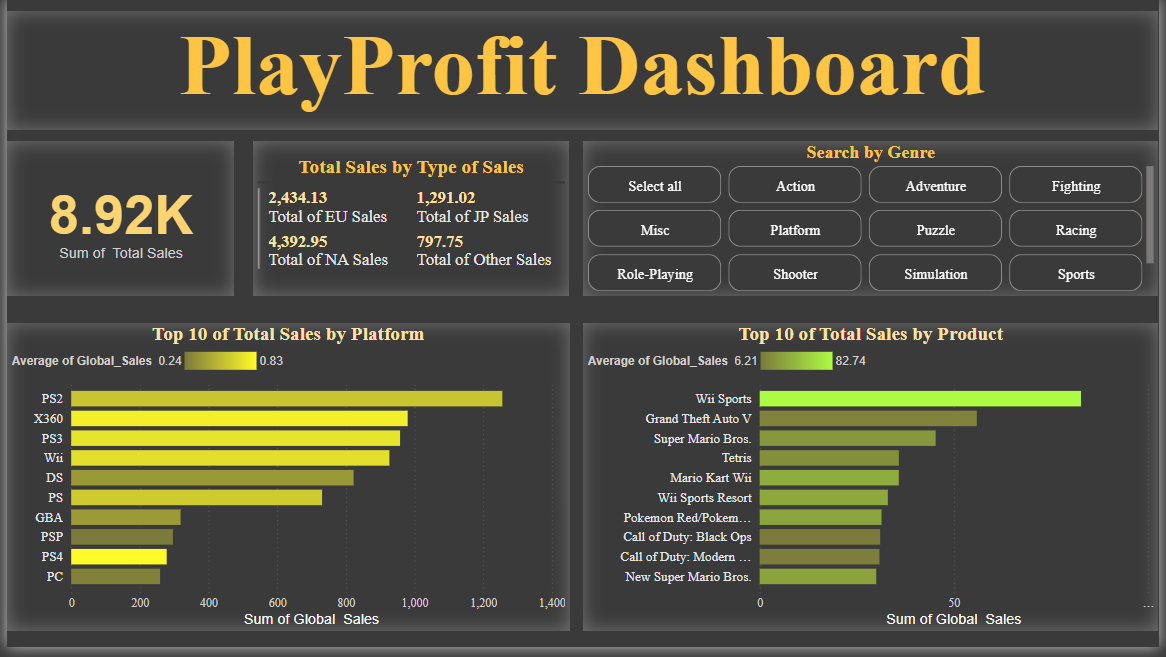

What the dashboard file says about the page in this screenshot:
{"tool":"powerbi","page":{"name":"Page 2","canvas":[1280,720],"ordinal":1},"visuals":[{"type":"textbox","box":[0,13.2,1279.4,132.3],"z":0},{"type":"clusteredBarChart","title":"Top 10 of Total Sales by Platform","fields":{"Category":["Video Game sales.Platform"],"Y":["Sum(Video Game sales.Global_Sales)"]},"box":[0,359.5,625.1,342],"z":1000},{"type":"multiRowCard","title":"Total Sales by Type of Sales","fields":{"Values":["Sum(Video Game sales.EU_Sales)","Sum(Video Game sales.JP_Sales)","Sum(Video Game sales.NA_Sales)","Sum(Video Game sales.Other_Sales)"]},"box":[273,159.1,351.5,171],"z":2000},{"type":"card","fields":{"Values":["Sum(Video Game sales.Global_Sales)"]},"box":[0,159.1,252.9,171.8],"z":3000},{"type":"clusteredBarChart","title":"Top 10 of Total Sales by Product","fields":{"Category":["Video Game sales.Product Name"],"Y":["Sum(Video Game sales.Global_Sales)"]},"box":[639.4,359.5,639.4,342],"z":4000},{"type":"advancedSlicerVisual","title":"Search by Genre","fields":{"Values":["Video Game sales.Genre"]},"box":[639.4,159.1,639.4,171.8],"z":5000}]}

Visuals, with their boxes in screenshot pixels (x1, y1, x2, y2), scaled from the page's 1280x720 canvas onto the 1166x657 screenshot:
textbox: 0/12/1165/133
"Top 10 of Total Sales by Platform" clusteredBarChart: 0/328/569/640
"Total Sales by Type of Sales" multiRowCard: 249/145/569/301
card - Sum(Video Game sales.Global_Sales): 0/145/230/302
"Top 10 of Total Sales by Product" clusteredBarChart: 582/328/1165/640
"Search by Genre" advancedSlicerVisual: 582/145/1165/302
